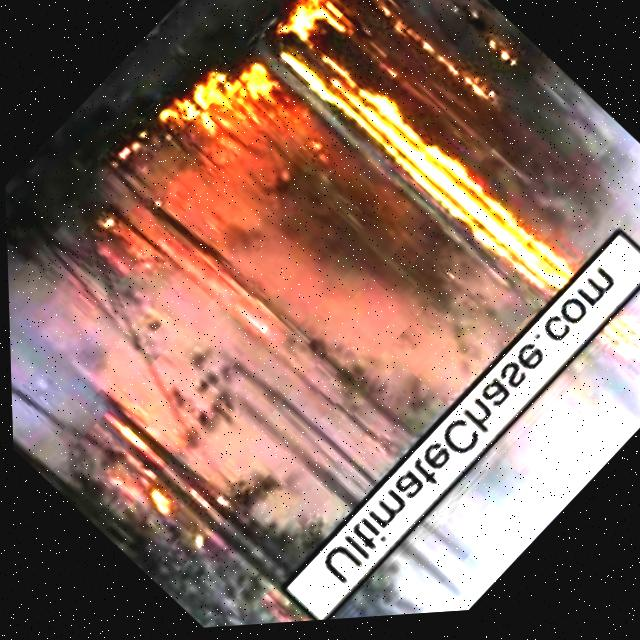Fire: (243, 0, 585, 335), (160, 45, 289, 177), (327, 0, 436, 16)
Smoke: (0, 0, 552, 640), (243, 216, 640, 628)
